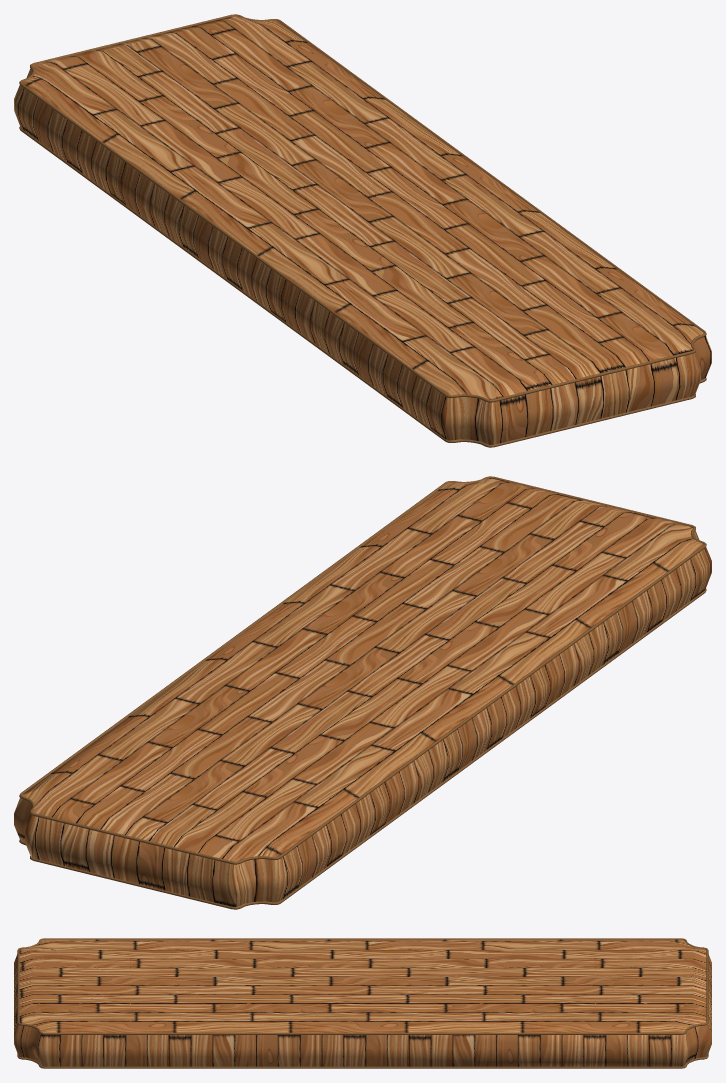
Rendered from SM_FoamFloor_1x3.fbx.
3 renders of one model, top to bottom at view 1: azimuth 30°, elevation 25°; view 2: azimuth 150°, elevation 25°; view 3: azimuth 270°, elevation 25°, orthographic. The views are drawn at different scales.
Visible parts, largest first — view 1: SM_SoftFoam_Floor_20cm_1x3; view 2: SM_SoftFoam_Floor_20cm_1x3; view 3: SM_SoftFoam_Floor_20cm_1x3.
Part boxes in pixels (bbox=[...]): SM_SoftFoam_Floor_20cm_1x3: bbox=[14, 14, 711, 447]; SM_SoftFoam_Floor_20cm_1x3: bbox=[14, 476, 711, 909]; SM_SoftFoam_Floor_20cm_1x3: bbox=[14, 938, 711, 1068].
Size of the model in its own units: 100 by 20 by 300.
